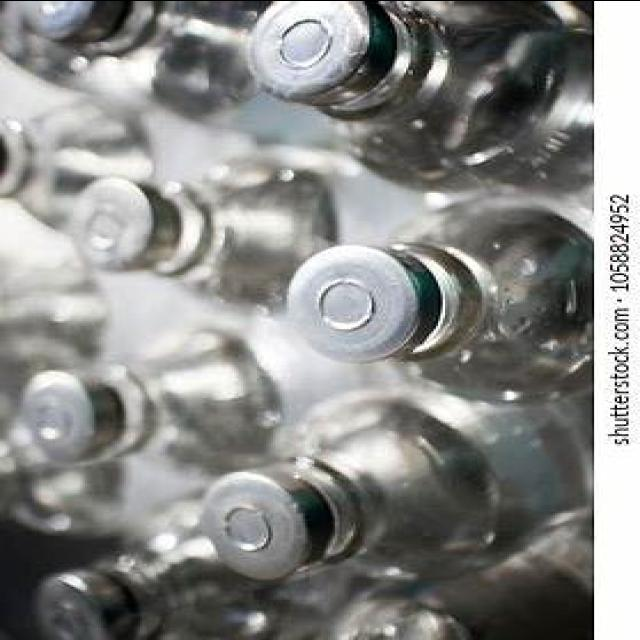vial: (198, 460, 308, 580), (293, 258, 397, 360), (244, 0, 342, 91), (36, 342, 94, 479), (39, 572, 122, 638), (83, 184, 145, 268), (320, 608, 440, 640), (42, 1, 116, 46), (0, 126, 32, 207), (0, 478, 9, 526), (0, 305, 5, 368)
